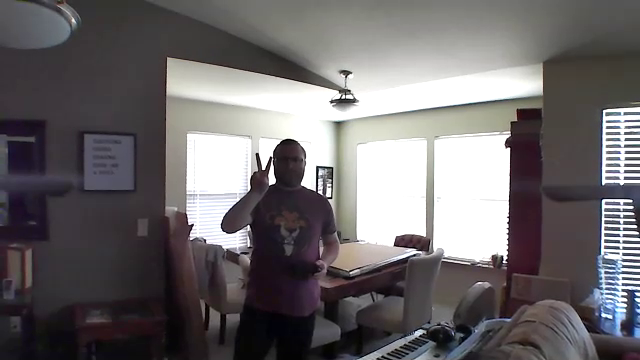peace: (243, 148, 279, 194)
